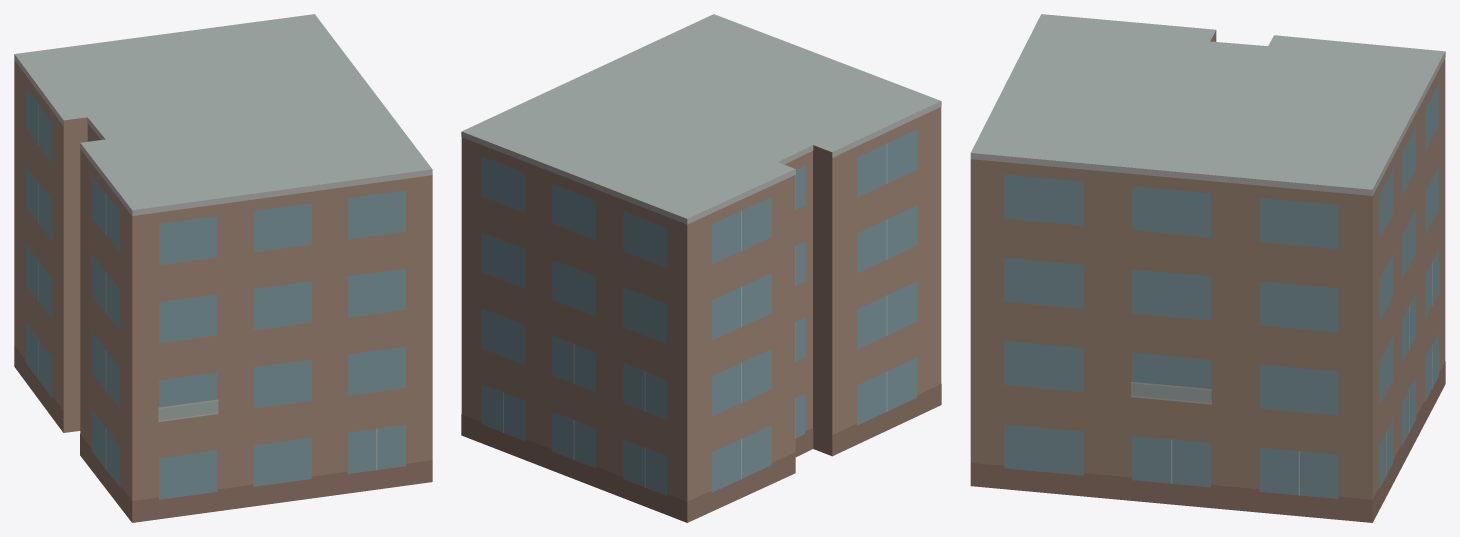
Rendered from survey-upis-32911839.glb.
The picture shows the model from 3 angles, left to right: view 1: azimuth 30°, elevation 25°; view 2: azimuth 150°, elevation 25°; view 3: azimuth 270°, elevation 25°; orthographic projection. The views are drawn at different scales.
Parts seen in each view (by area): view 1: survey-upis-32911839.tmp; view 2: survey-upis-32911839.tmp; view 3: survey-upis-32911839.tmp.
Boxes of the visible parts, x1,y1,x2,y2 form: survey-upis-32911839.tmp: (14, 14, 432, 522); survey-upis-32911839.tmp: (461, 14, 941, 522); survey-upis-32911839.tmp: (970, 14, 1445, 522).
Bounding box in the file's own units: 14.95 × 13.2 × 17.06.
